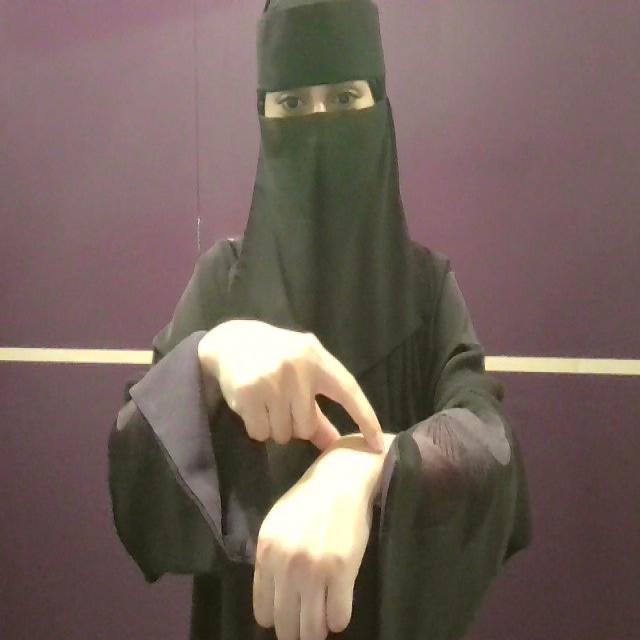appointment: (210, 314, 388, 640)
